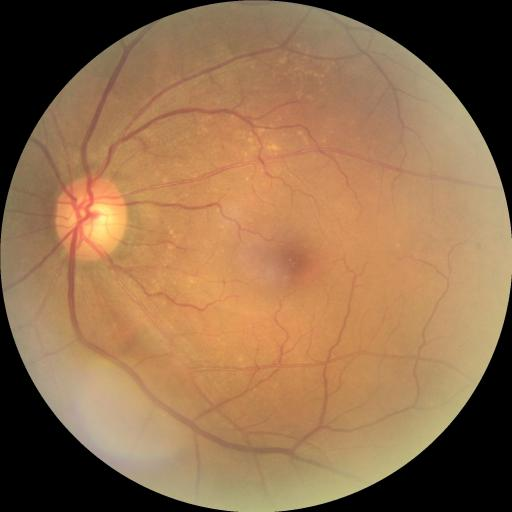Optic Cup: (77, 203, 115, 243)
Optic Disc: (55, 176, 128, 261)
